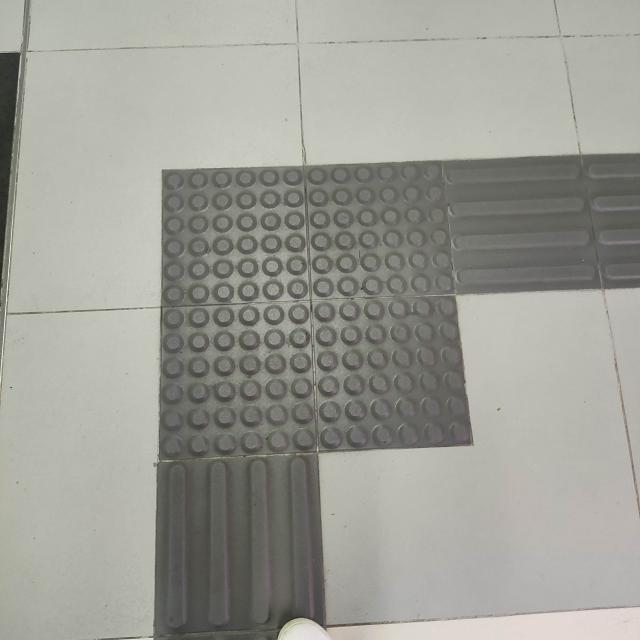kanan: (99, 125, 640, 526)
